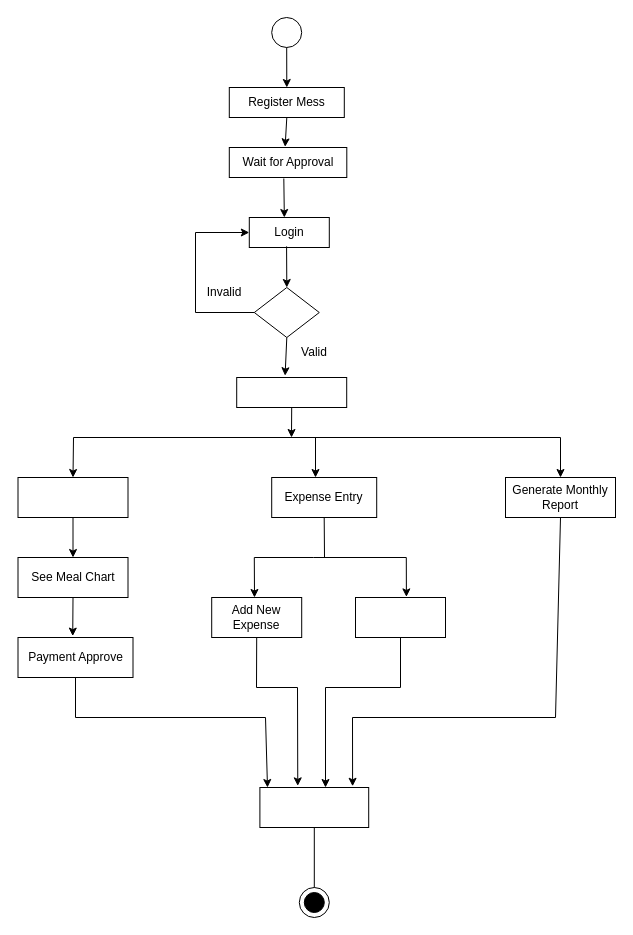
Some shapes in this 633 by 935 pixel diagram are drawn without their labels. Each missing label, with the centre of its shape:
"Add Fixed Expense" belongs at pixel 400 617.
"Add Member" belongs at pixel 72 497.
"Dashboard" belongs at pixel 291 392.
"Logout" belongs at pixel 314 807.
